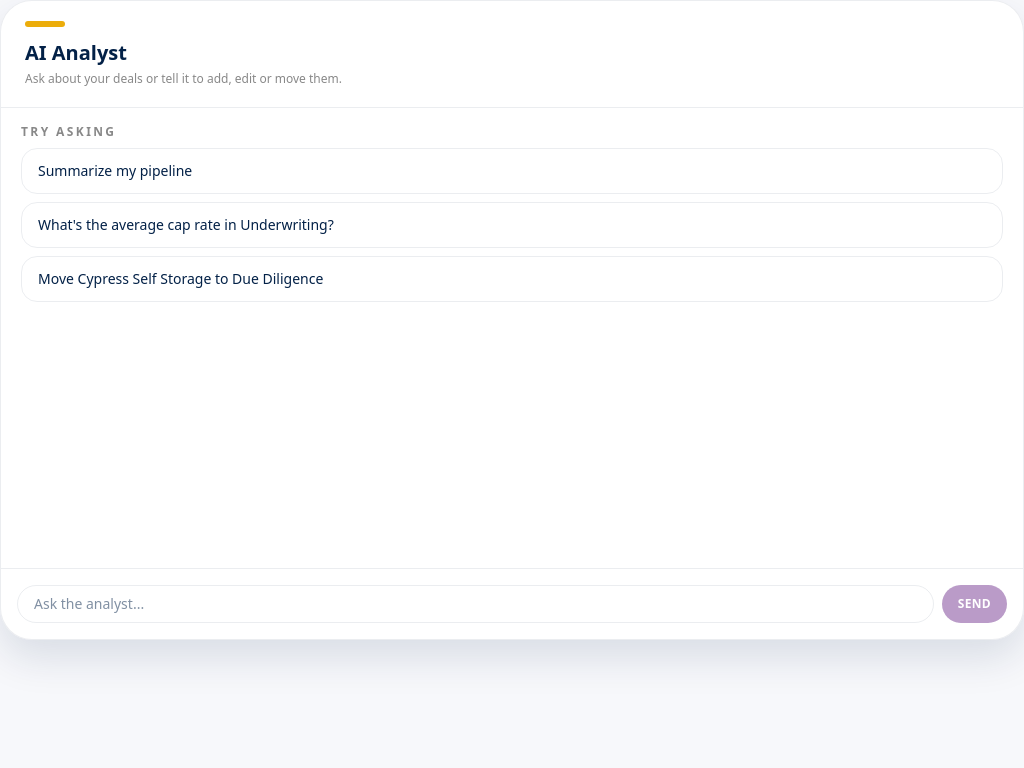
Test case: ChatSidebar › sends a message and shows the reply
The width and height of the screenshot is (1024, 768).
Type "How many deals?" into the field named "Message". click: [475, 604]
box: [17,585,934,623]
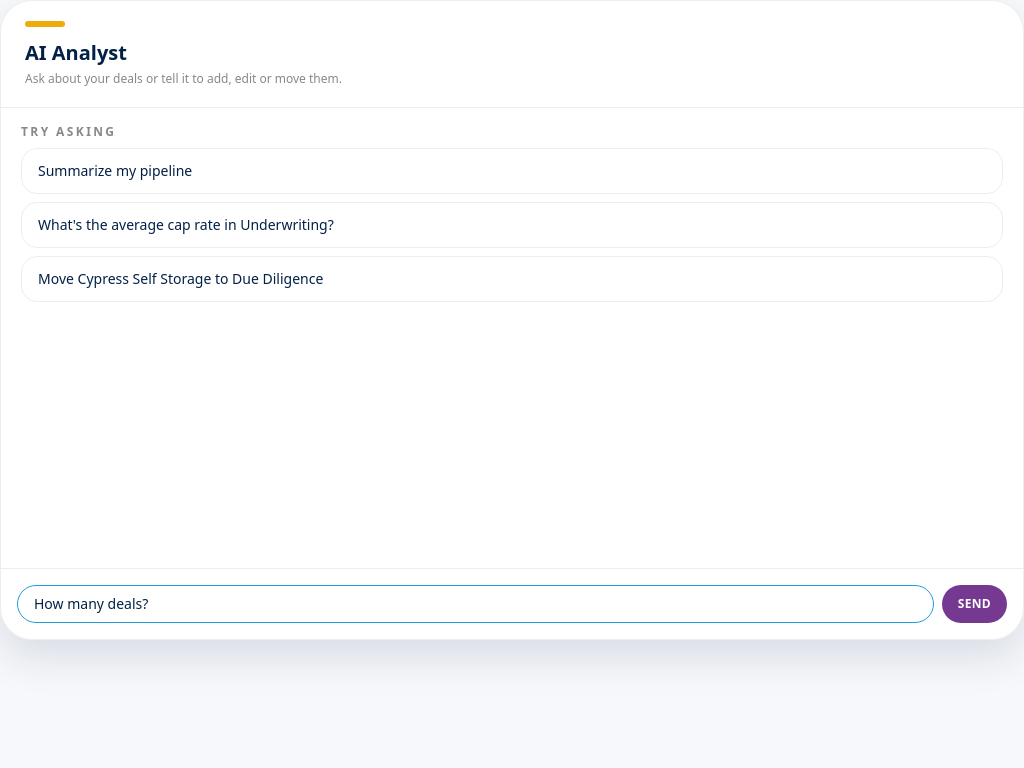
Click the button "Send". click: [974, 604]
box: [942,585,1007,623]
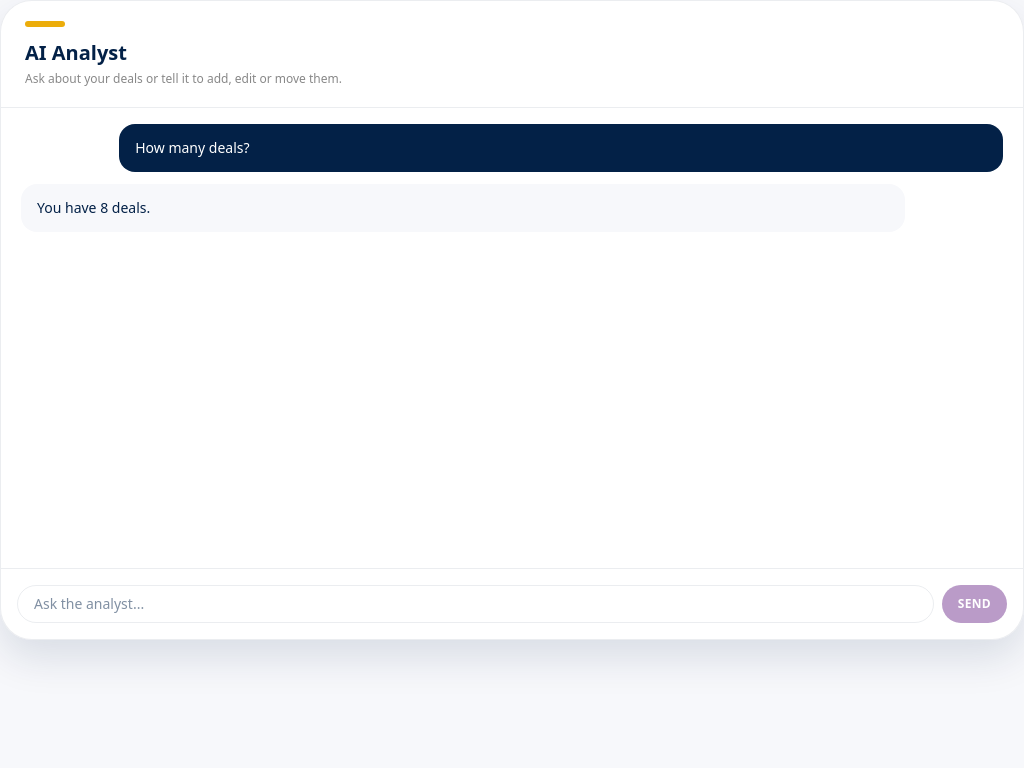
Now the text "You have 8 deals." is shown, box [21,184,905,232]
Now the text "How many deals?" is shown, box [119,124,1003,172]
